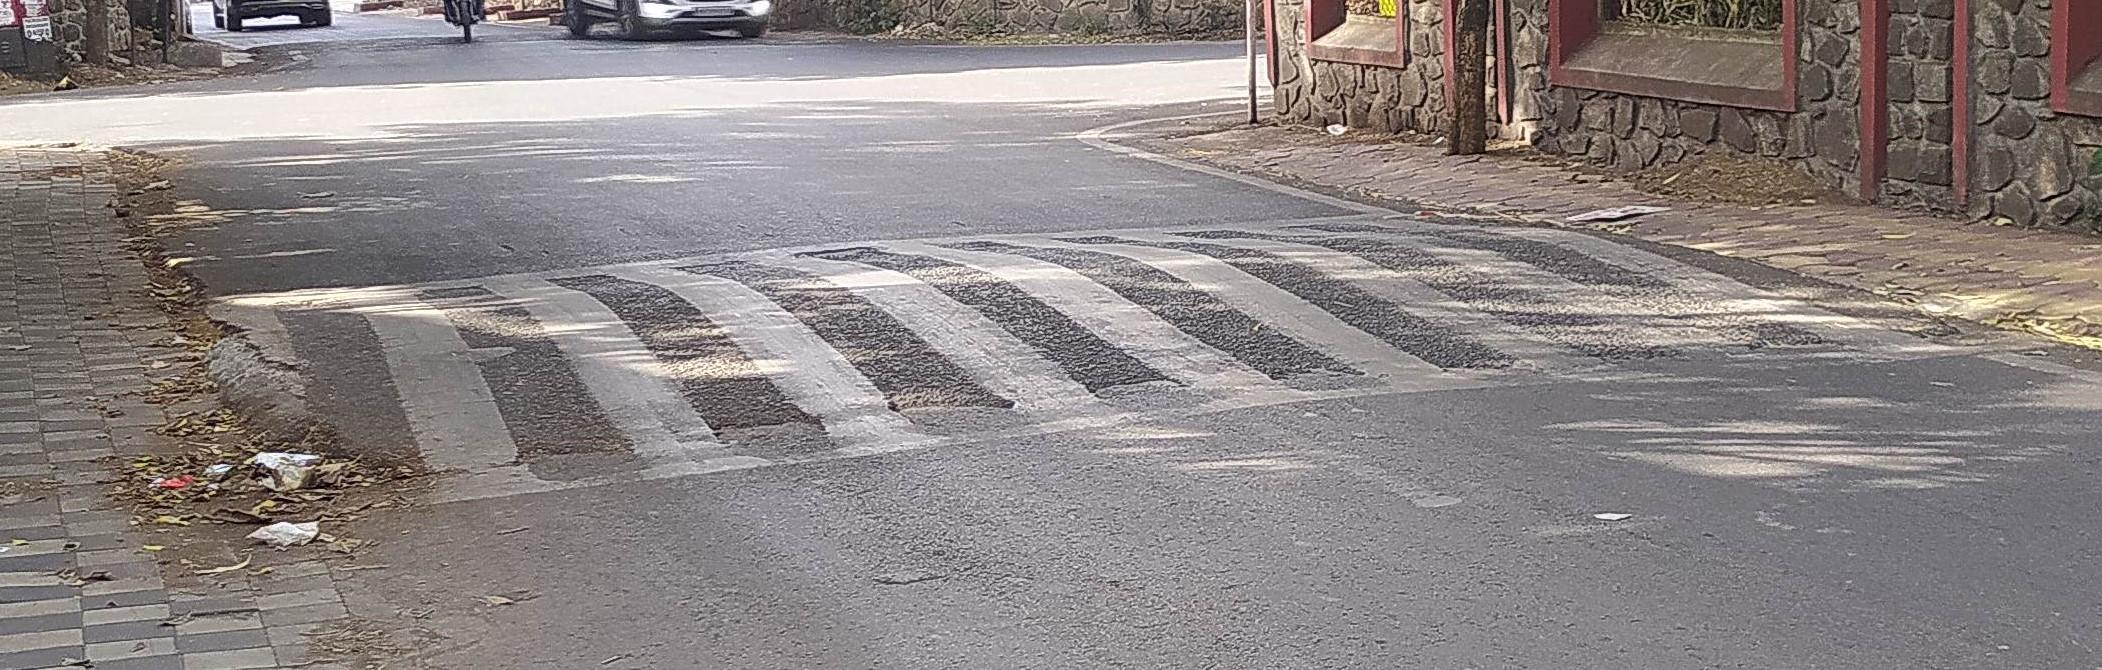speed-bump: (205, 218, 1860, 468)
